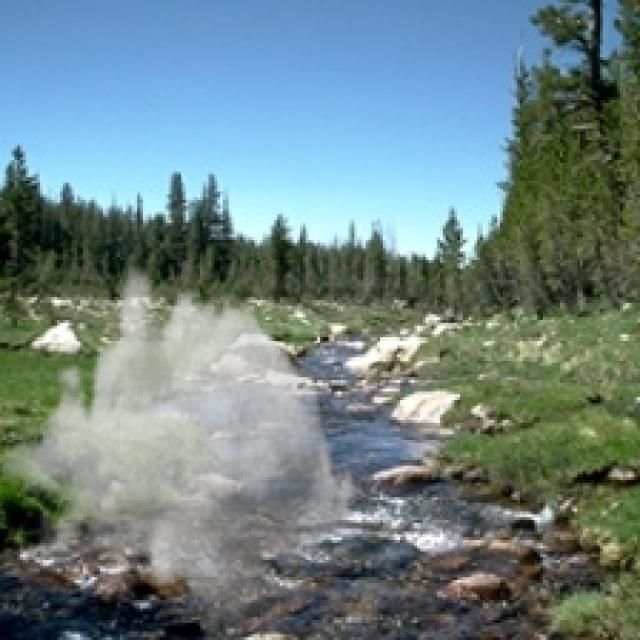Smoke: (0, 260, 360, 629)
